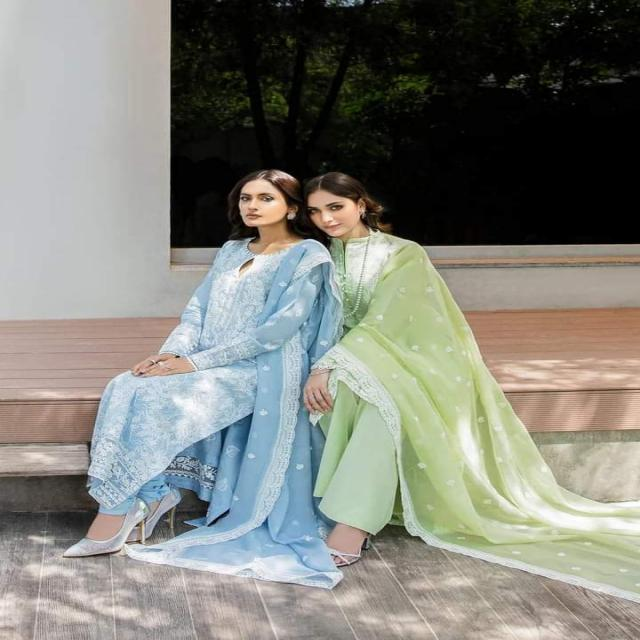female-dress: (324, 242, 605, 600), (105, 240, 334, 556)
